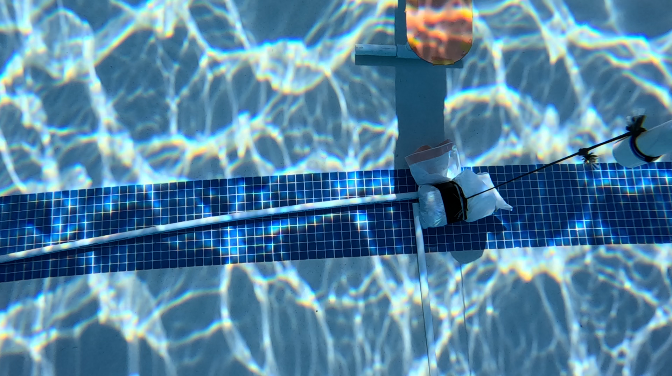pathmarker: (405, 0, 472, 64)
